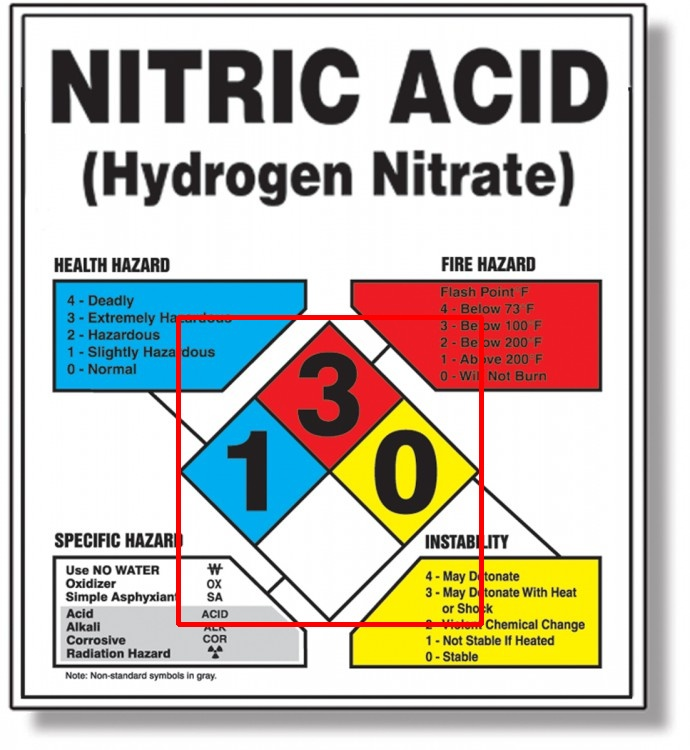nfpa: (178, 317, 481, 624)
